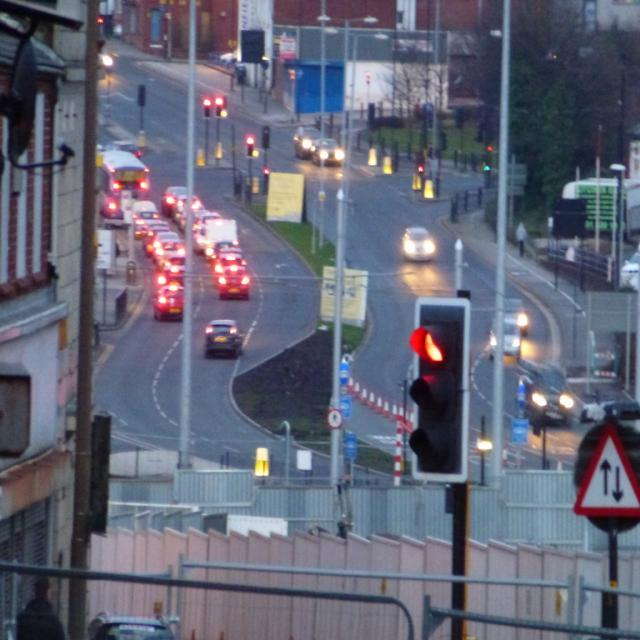traffic light: (414, 298, 468, 483)
